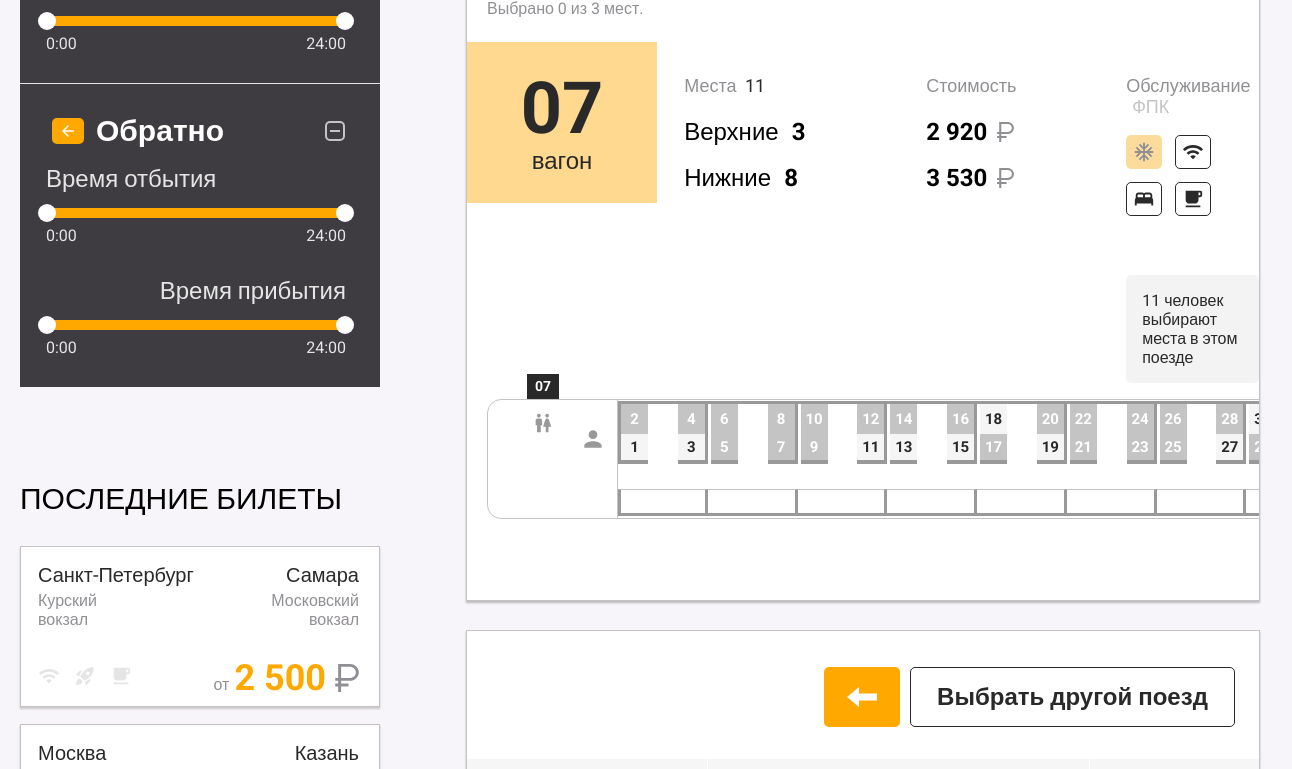
it: выбор мест › платные услуги прибавляются к сумме на каждого пассажира
(page scrolled)
Step 1. Click the button named "Место 1, нижнее, свободно" → (634, 447), box [621,434,648,460]
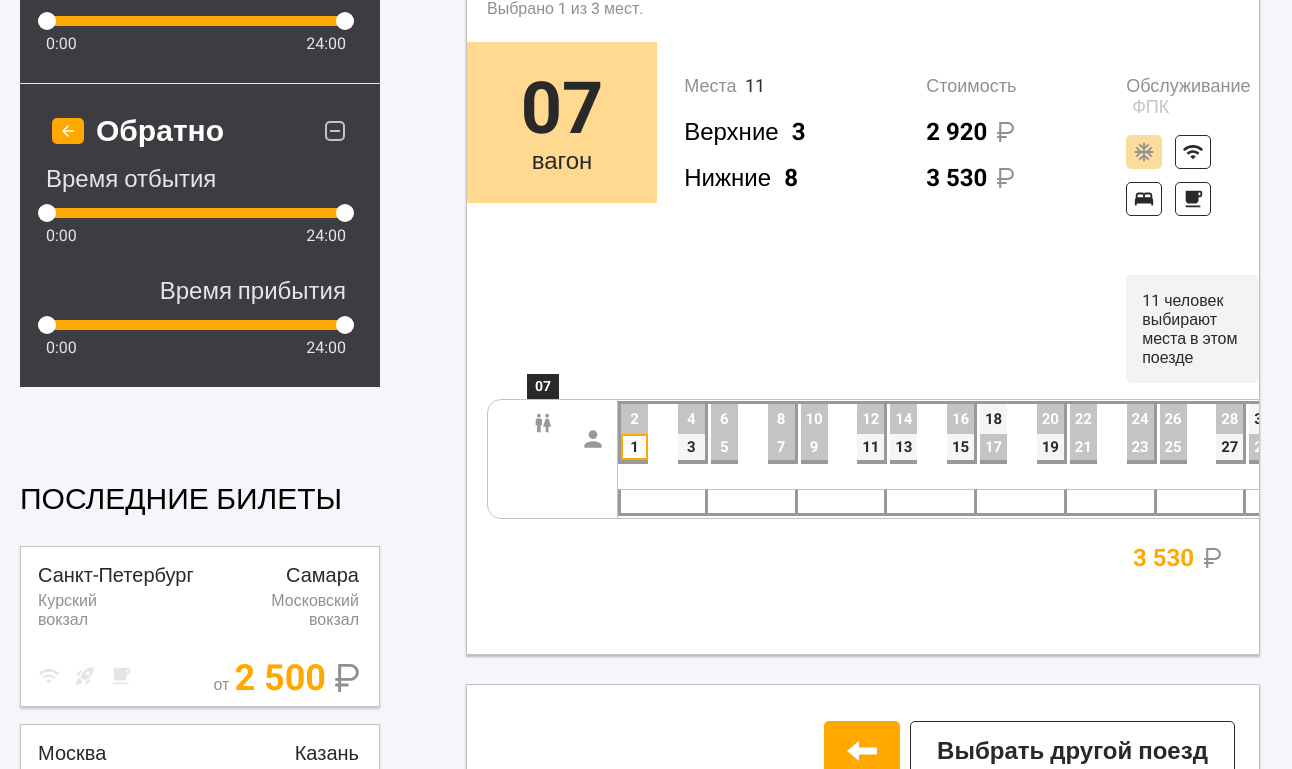
Step 2. Click the button named "Wi-Fi" → (1193, 152), box [1175,135,1211,169]
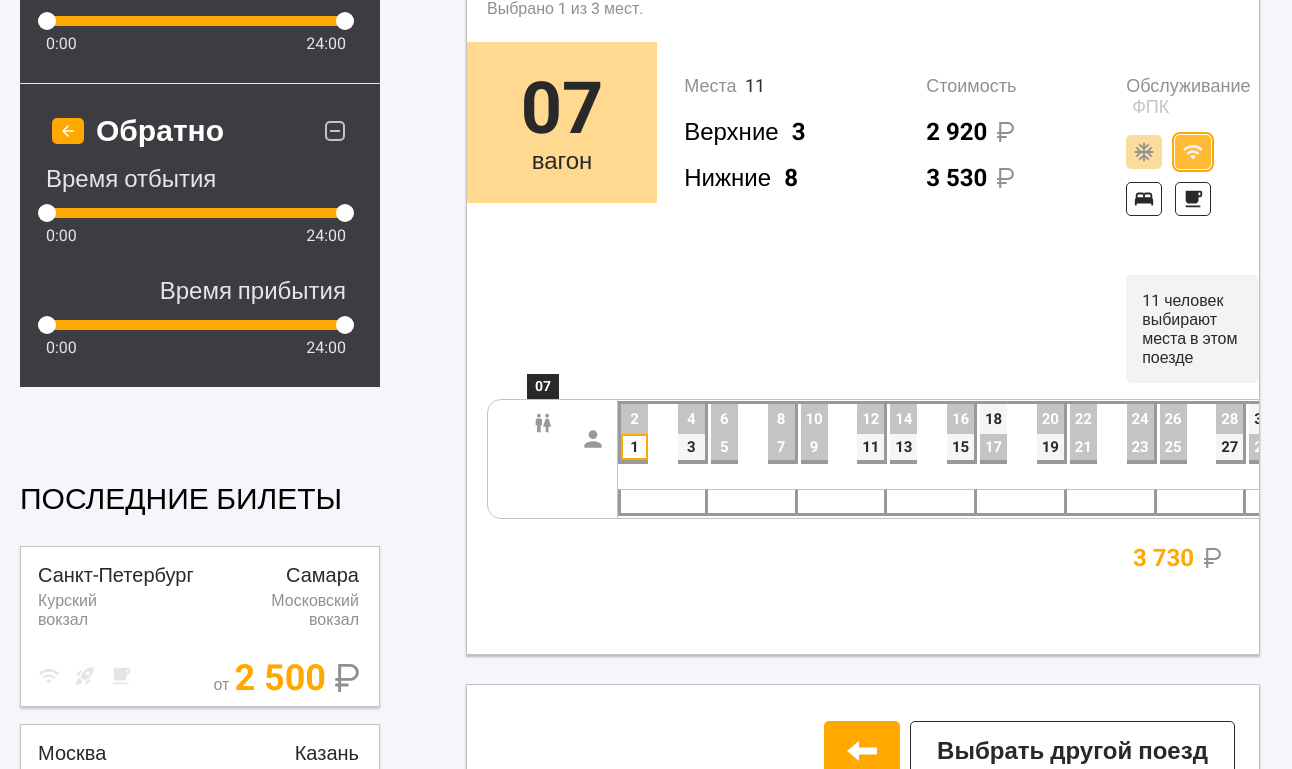
Expected: the button named "Кондиционер: включено в стоимость" is disabled, [1126,135,1162,169]
Expected: the button named "Wi-Fi" is pressed, [1175,135,1211,169]
